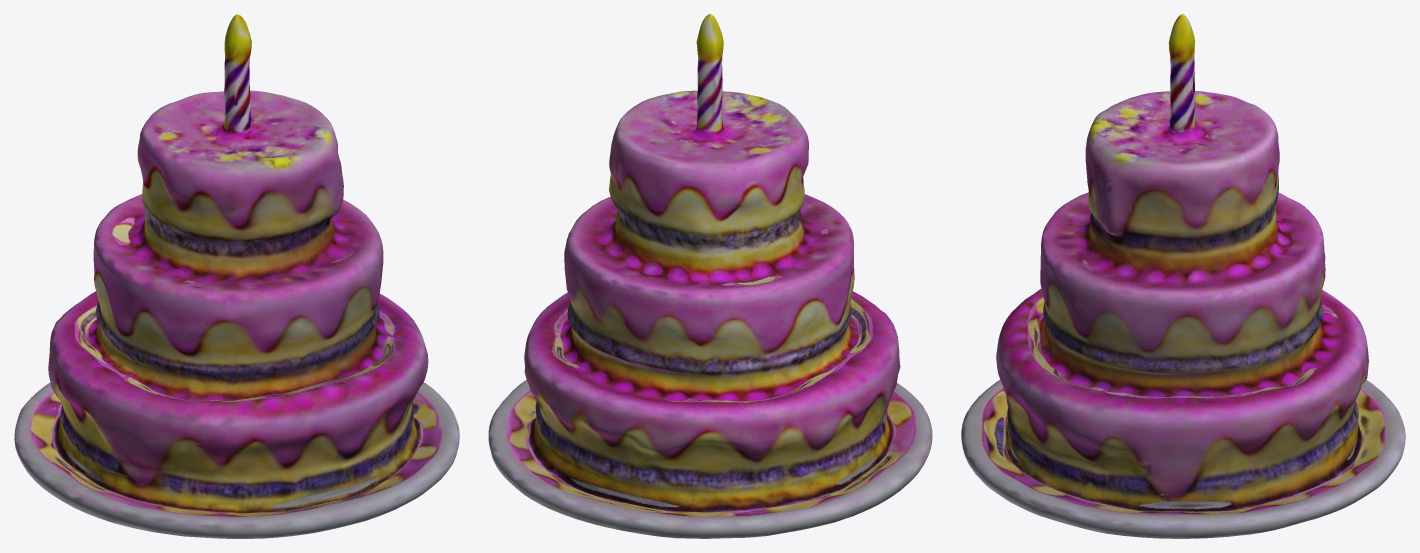
Rendered from food_cake.glb.
3 views of the same model, side by side, from view 1: azimuth 30°, elevation 25°; view 2: azimuth 150°, elevation 25°; view 3: azimuth 270°, elevation 25° (orthographic).
Visible parts, largest first — view 1: food_cake; view 2: food_cake; view 3: food_cake.
Boxes of the visible parts, box(x1,y1,x2,y2) form: food_cake: box(14, 14, 459, 538); food_cake: box(488, 14, 932, 538); food_cake: box(961, 14, 1405, 538).
Size of the model in its own units: 81.59 by 90.01 by 81.56.
1 material, 1 textured.
